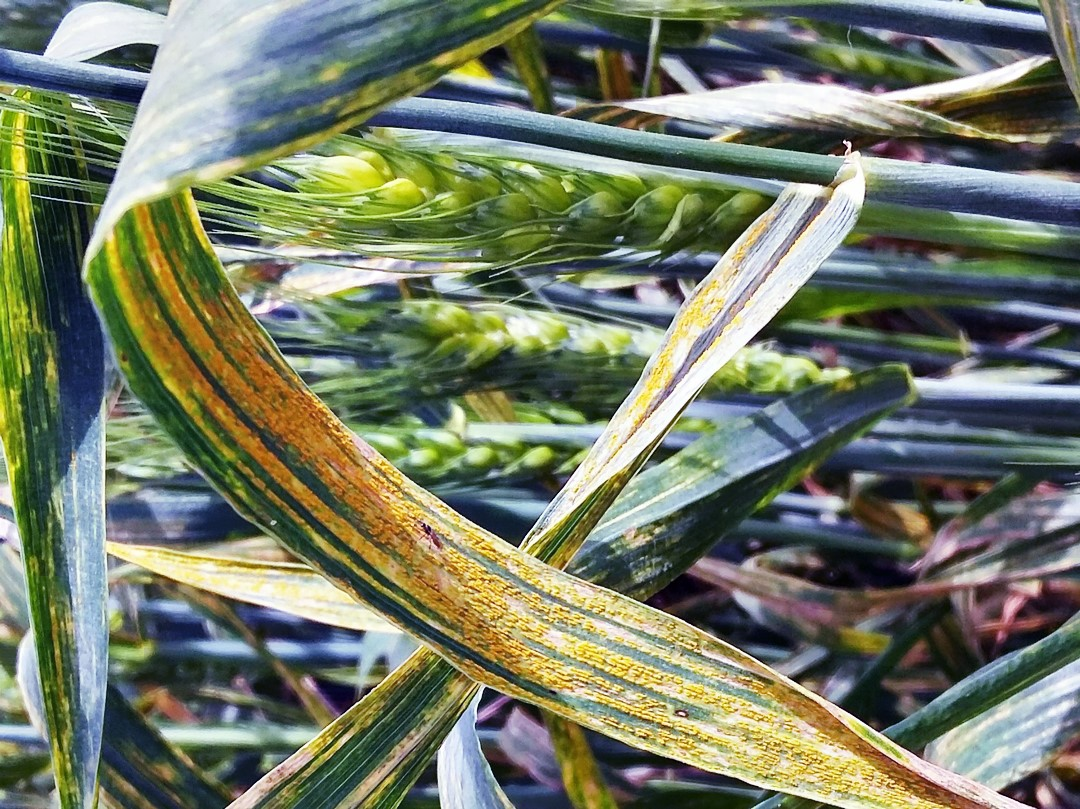Leaf Rust: (178, 304, 888, 795)
